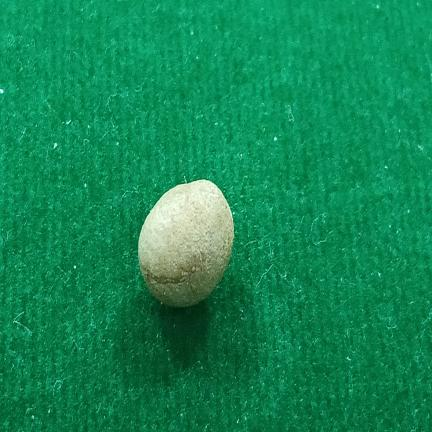good: (139, 180, 233, 307)
